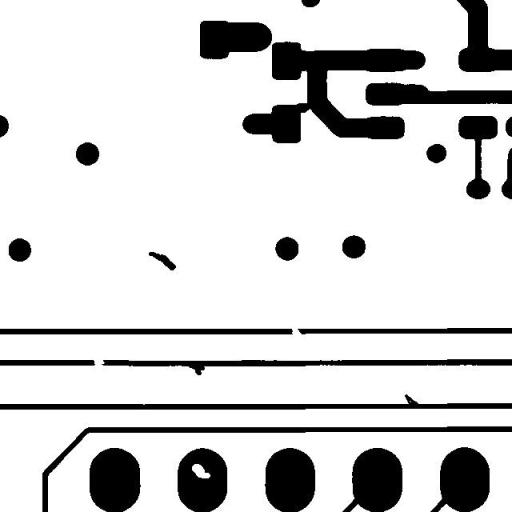copper: (141, 244, 183, 278)
open: (82, 348, 112, 375), (283, 318, 310, 344)
pin-hole: (184, 456, 218, 486)
short: (288, 95, 326, 120)
spur: (397, 386, 430, 416), (181, 354, 212, 382)
